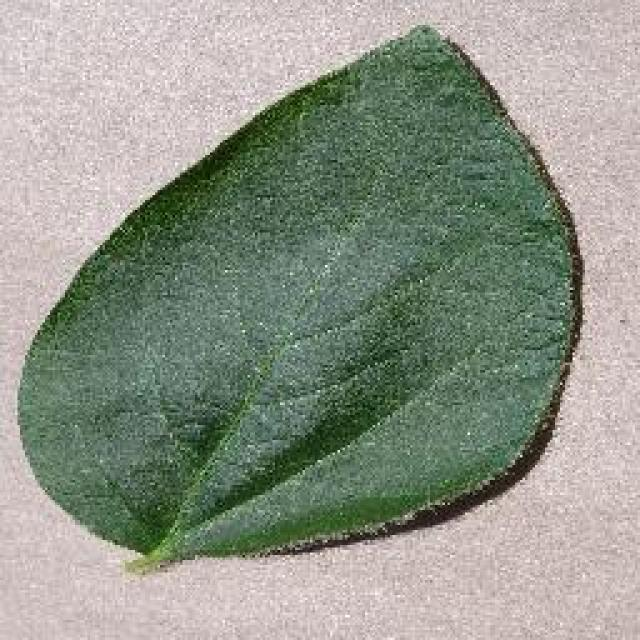Soy_healthy: (78, 73, 531, 510)
